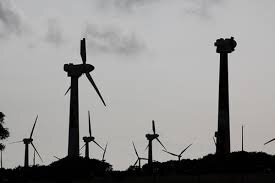faulty: (59, 36, 106, 103)
